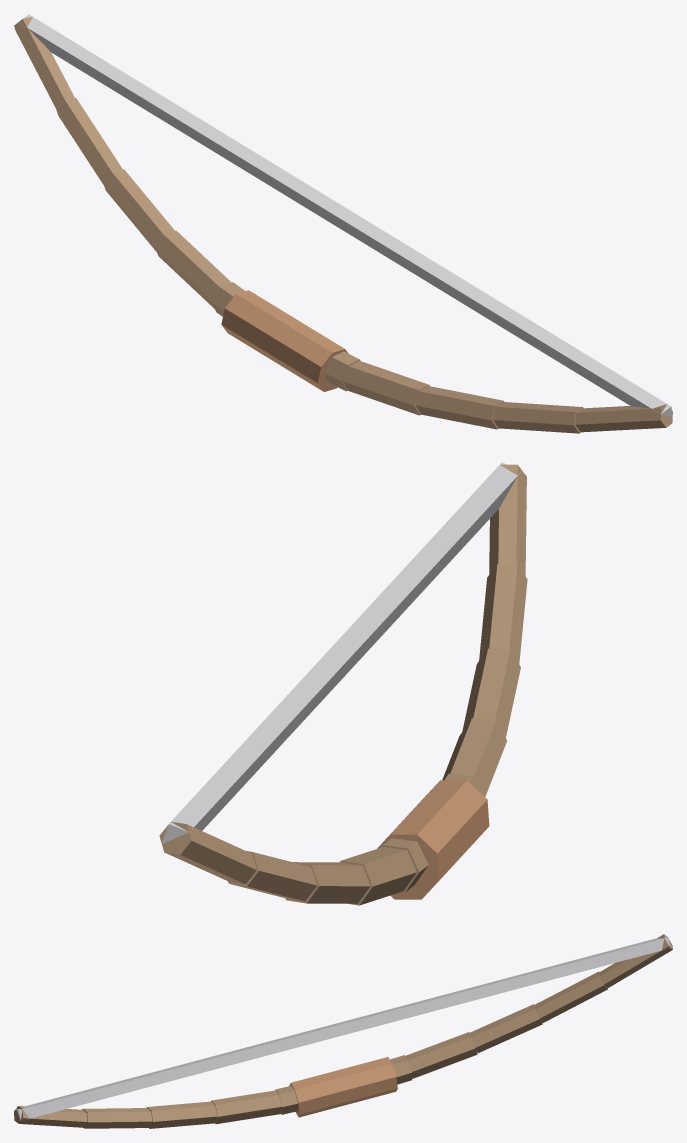
Rendered from bow_held.gltf.
3 views of the same model, one above another, from view 1: azimuth 30°, elevation 25°; view 2: azimuth 150°, elevation 25°; view 3: azimuth 270°, elevation 25° (orthographic). The views are drawn at different scales.
Parts seen in each view (by area): view 1: archery_bow_held; view 2: archery_bow_held; view 3: archery_bow_held.
Part boxes in pixels (x1=…): archery_bow_held: x1=14, y1=14, x2=672, y2=433; archery_bow_held: x1=159, y1=462, x2=527, y2=905; archery_bow_held: x1=14, y1=934, x2=672, y2=1128.
Size of the model in its own units: 0.1765 by 0.1525 by 0.5785.
